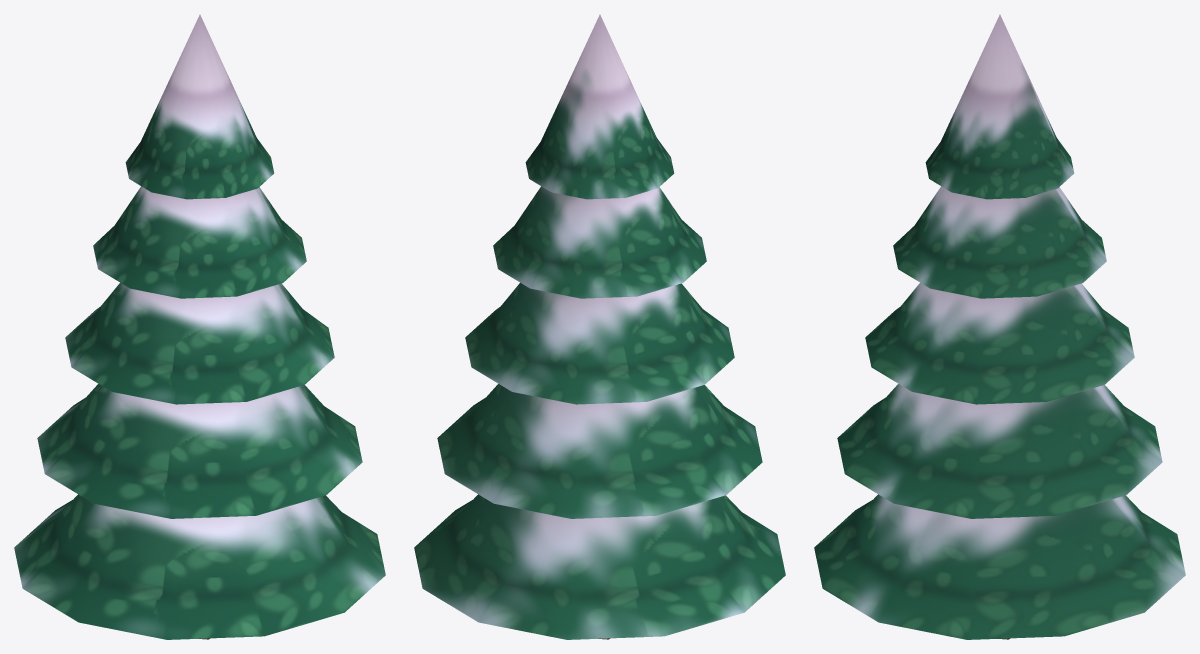
File: snowy_pine.obj
3 views of the same model, side by side, from view 1: azimuth 30°, elevation 25°; view 2: azimuth 150°, elevation 25°; view 3: azimuth 270°, elevation 25° (orthographic).
Parts seen in each view (by area): view 1: SnowyPine; view 2: SnowyPine; view 3: SnowyPine.
Boxes of the visible parts, box(x1,y1,x2,y2) form: SnowyPine: box(14, 14, 385, 639); SnowyPine: box(414, 14, 785, 639); SnowyPine: box(814, 14, 1185, 639).
Bounding box in the file's own units: 3.94 × 7.2 × 3.94.
Materials: 1 (1 with a texture image).
